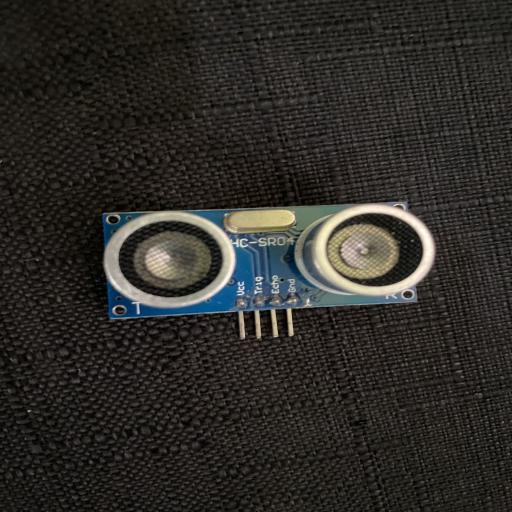Ultrasonic Sensor: (101, 200, 437, 340)
